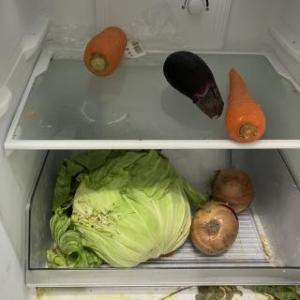cabbage: (44, 148, 208, 272)
carrot: (223, 67, 267, 145), (82, 25, 128, 79)
eggplant: (163, 50, 225, 120)
onion: (189, 200, 241, 258), (206, 167, 256, 215)
